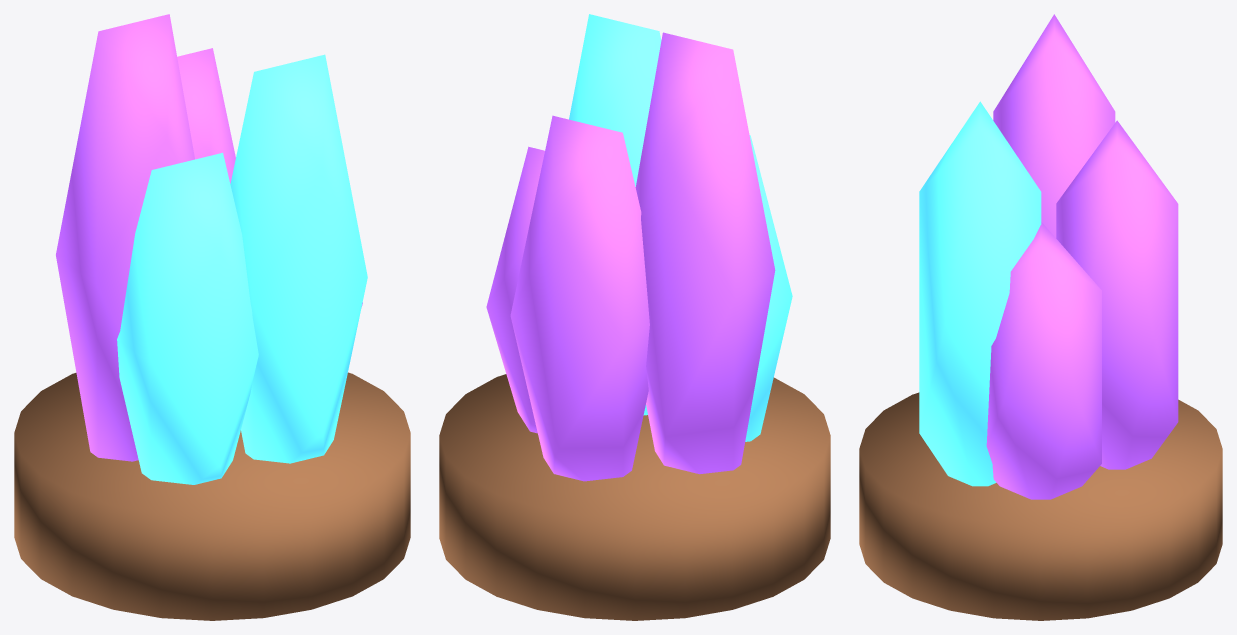
The model's file is collectible_crystal.glb.
The picture shows the model from 3 angles, left to right: view 1: azimuth 30°, elevation 25°; view 2: azimuth 150°, elevation 25°; view 3: azimuth 270°, elevation 25°; orthographic projection. The views are drawn at different scales.
Parts seen in each view (by area): view 1: root_blue, root_copper, root_purple; view 2: root_purple, root_copper, root_blue; view 3: root_purple, root_copper, root_blue.
Part boxes in pixels (bbox=[...]): root_blue: bbox=[117, 54, 367, 484]; root_copper: bbox=[14, 372, 410, 620]; root_purple: bbox=[56, 14, 362, 461]; root_purple: bbox=[486, 32, 775, 481]; root_copper: bbox=[439, 374, 830, 620]; root_blue: bbox=[569, 14, 792, 441]; root_purple: bbox=[986, 14, 1178, 499]; root_copper: bbox=[859, 392, 1222, 620]; root_blue: bbox=[919, 101, 1041, 486].
Bounding box in the file's own units: 0.38 × 0.5567 × 0.38.
